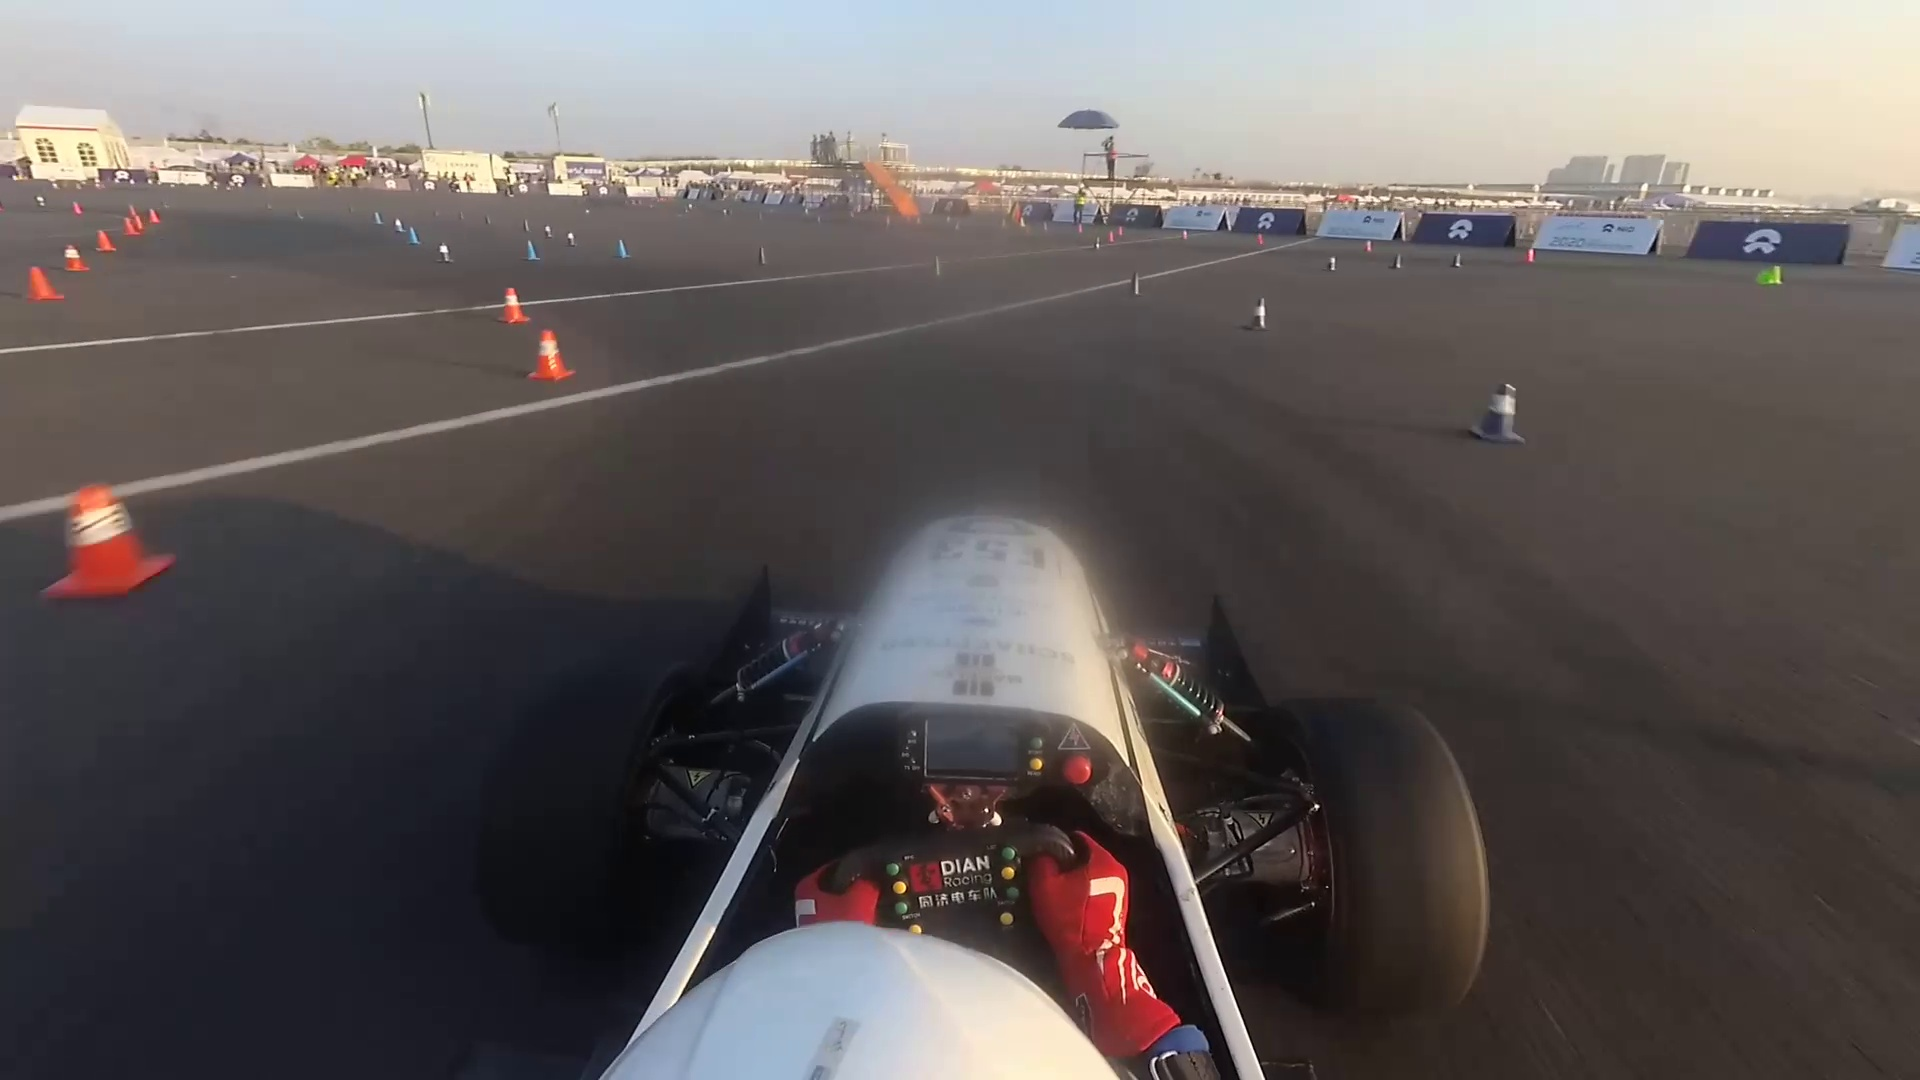blue_cone: (1478, 386, 1534, 454), (1240, 291, 1276, 338), (525, 235, 542, 266), (1127, 274, 1145, 303), (436, 241, 454, 266), (1448, 251, 1466, 273), (615, 237, 632, 261), (753, 244, 767, 272), (1389, 251, 1404, 274), (1323, 252, 1341, 272), (934, 251, 945, 281), (407, 224, 423, 247), (371, 204, 385, 225), (567, 229, 578, 252), (543, 222, 555, 241), (520, 218, 534, 233), (392, 218, 406, 233), (293, 207, 306, 223), (345, 200, 356, 218), (1095, 235, 1102, 253), (456, 210, 468, 222), (483, 214, 493, 225), (721, 206, 727, 218), (803, 207, 808, 218), (688, 200, 694, 210), (436, 208, 440, 215)
red_cone: (32, 473, 189, 618), (22, 258, 65, 311), (533, 330, 571, 388), (491, 284, 537, 322), (58, 237, 95, 276), (88, 229, 117, 257), (123, 214, 138, 237), (63, 200, 88, 215), (146, 208, 162, 228), (1251, 229, 1266, 247), (1524, 247, 1538, 265), (1364, 237, 1375, 255), (1105, 229, 1117, 247), (133, 214, 145, 229), (1116, 224, 1127, 237), (1182, 229, 1191, 243), (1076, 222, 1084, 233)
